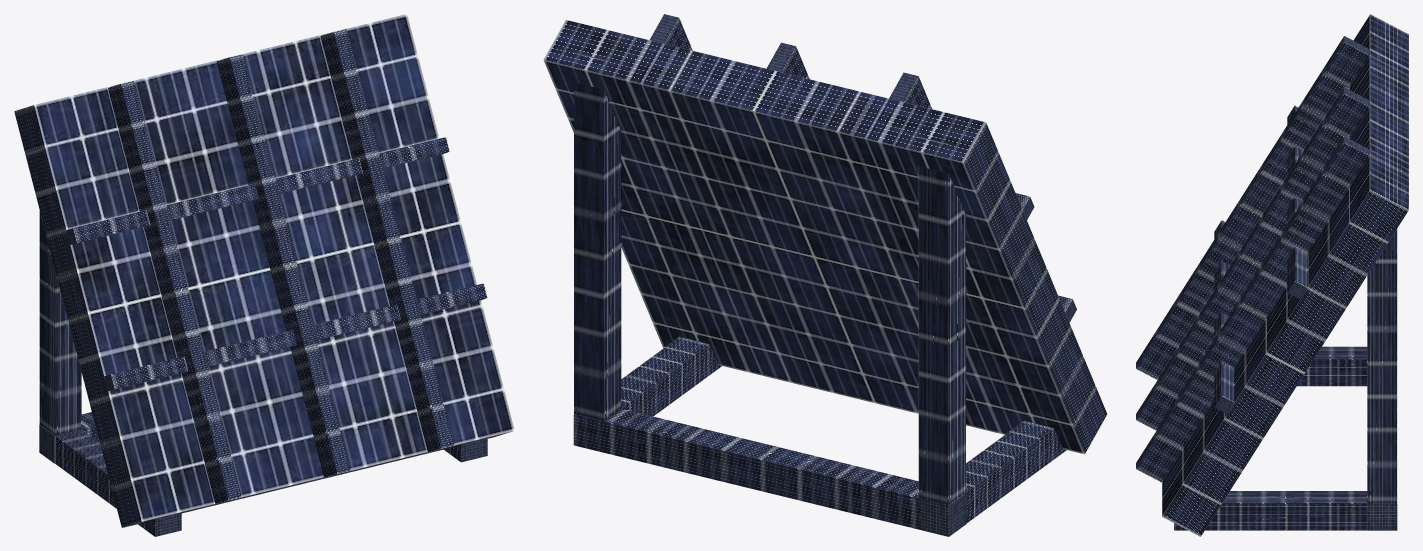
Rendered from SeleniumRutheniumObject.DAE.
The picture shows the model from 3 angles, left to right: view 1: azimuth 30°, elevation 25°; view 2: azimuth 150°, elevation 25°; view 3: azimuth 270°, elevation 25°; orthographic projection. The views are drawn at different scales.
Visible parts, largest first — view 1: Box001; view 2: Box001; view 3: Box001.
Part boxes in pixels (x1=…): Box001: x1=14, y1=14, x2=514, y2=536; Box001: x1=543, y1=14, x2=1107, y2=536; Box001: x1=1136, y1=14, x2=1408, y2=536.
Size of the model in its own units: 11.02 by 7.22 by 10.61.
1 material, 1 textured.
